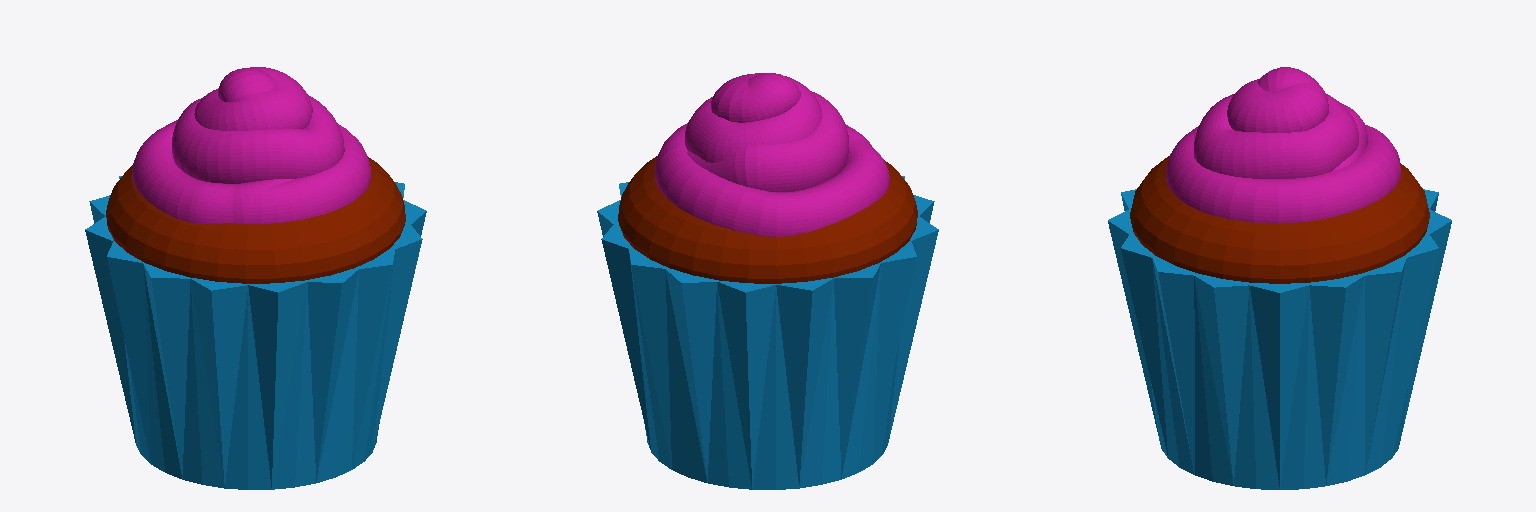
The model's file is muffin2.obj.
The picture shows the model from 3 angles: view 1: azimuth 30°, elevation 25°; view 2: azimuth 150°, elevation 25°; view 3: azimuth 270°, elevation 25°; orthographic projection.
Visible parts, largest first — view 1: obj3, obj2, obj4; view 2: obj3, obj2, obj4; view 3: obj3, obj2, obj4.
Part boxes in pixels (x1,y1,x2,y2): obj3: (85,176,426,489); obj2: (132,67,370,224); obj4: (106,156,405,283); obj3: (597,176,938,489); obj2: (655,73,889,236); obj4: (618,156,917,283); obj3: (1108,189,1451,489); obj2: (1166,67,1400,223); obj4: (1130,156,1429,283).
Size of the model in its own units: 2.86 by 3.35 by 2.86.